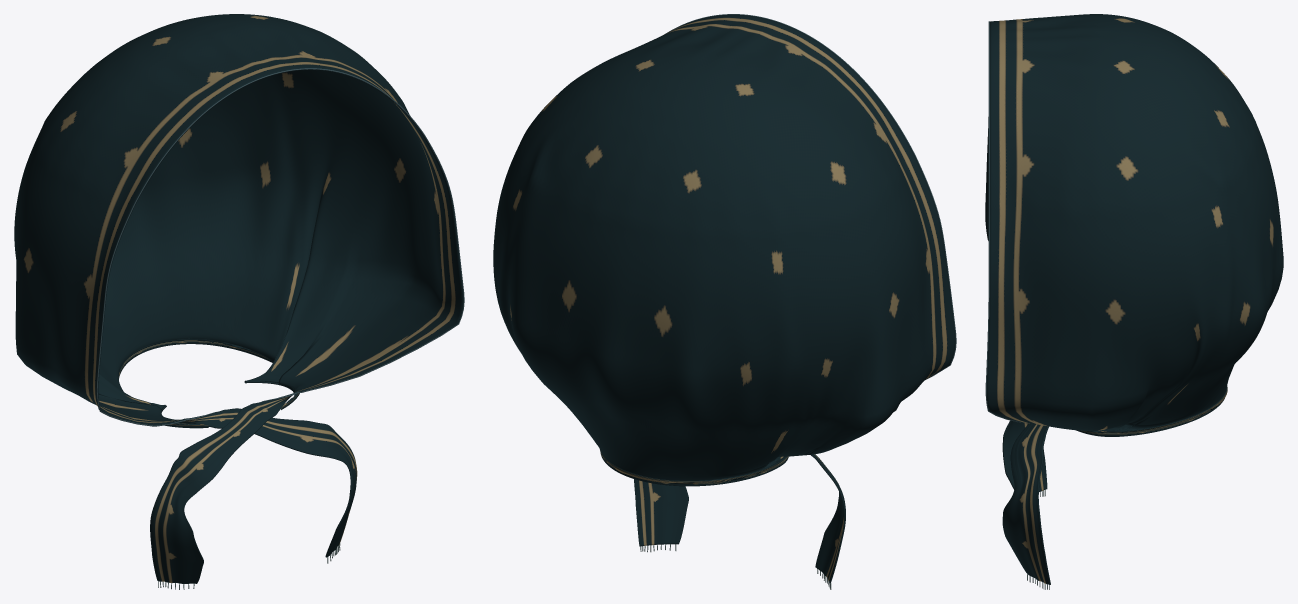
Rendered from Feminine-tshirt-gathered-pashmina248-headgear.glb.
3 renders of one model, left to right at view 1: azimuth 30°, elevation 25°; view 2: azimuth 150°, elevation 25°; view 3: azimuth 270°, elevation 25°, orthographic. The views are drawn at different scales.
Visible parts, largest first — view 1: 226 headgear / Headwear / continuous woven pashmina239, 226 headgear / Headwear / face edge239; view 2: 226 headgear / Headwear / continuous woven pashmina239, 226 headgear / Headwear / face edge239; view 3: 226 headgear / Headwear / continuous woven pashmina239, 226 headgear / Headwear / face edge239.
Boxes of the visible parts, box(x1,y1,x2,y2) form: 226 headgear / Headwear / continuous woven pashmina239: box(14, 14, 463, 583); 226 headgear / Headwear / face edge239: box(96, 68, 464, 426); 226 headgear / Headwear / continuous woven pashmina239: box(493, 14, 955, 583); 226 headgear / Headwear / face edge239: box(664, 14, 956, 379); 226 headgear / Headwear / continuous woven pashmina239: box(985, 14, 1283, 584); 226 headgear / Headwear / face edge239: box(985, 21, 1026, 423).
Bounding box in the file's own units: 1.02 × 1.35 × 0.7112.
3 materials, 1 textured.
